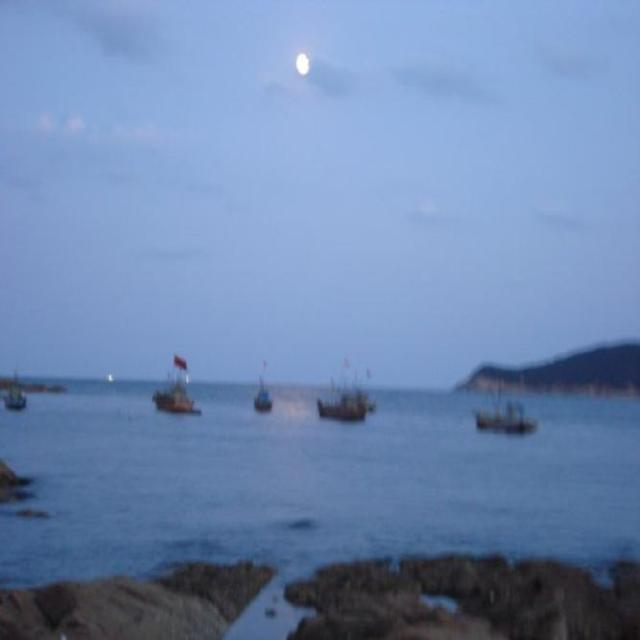fishing boat: (310, 369, 386, 427), (147, 358, 202, 422), (471, 387, 539, 437), (9, 372, 40, 427), (244, 358, 274, 414)
